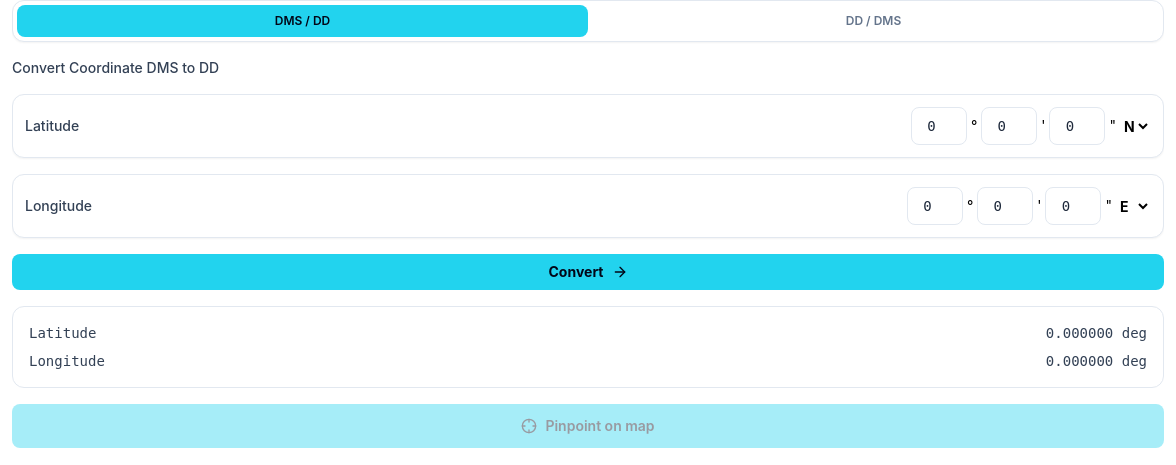
Test case: ConversionForm › switches to the DD to DMS form
Click the button "DD / DMS" at (874, 21), box left=588, top=5, right=1159, bottom=37
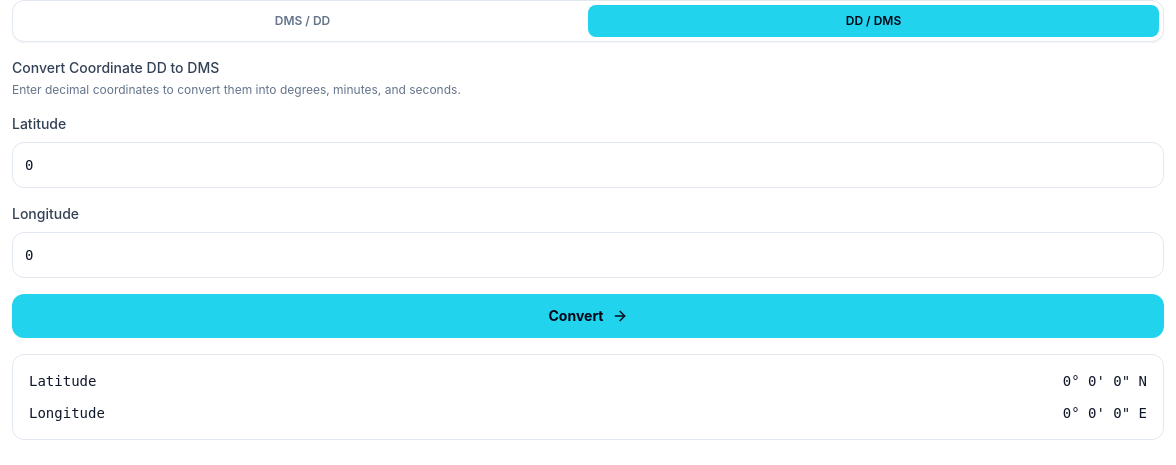
Expected: the text "Convert Coordinate DD to DMS" is shown, left=12, top=59, right=219, bottom=76
Expected: the text "Enter decimal coordinates to convert them into degrees, minutes, and seconds." is shown, left=12, top=82, right=461, bottom=97
